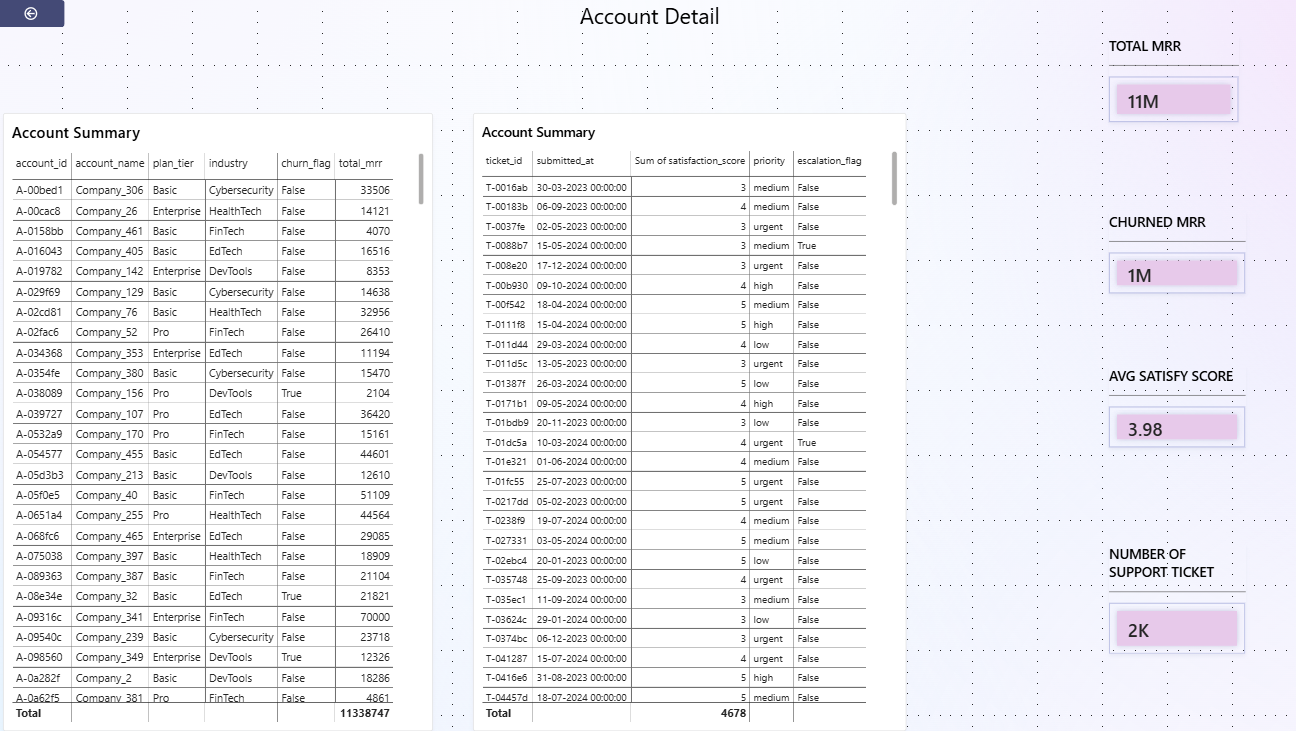

Layout of this report page (visuals, bound fields, positions):
{"tool":"powerbi","page":{"name":"Page 6","canvas":[1920,1080],"ordinal":5},"visuals":[{"type":"textbox","box":[9.5,0,1910.5,53.6],"z":0},{"type":"actionButton","box":[0,0,100,40],"z":1000},{"type":"tableEx","title":"Account Summary","fields":{"Values":["accounts.account_id","accounts.account_name","accounts.plan_tier","accounts.industry","accounts.churn_flag","_Measures.total_mrr"]},"box":[8.3,166.7,635,913.3],"z":2000},{"type":"tableEx","title":"Account Summary","fields":{"Values":["support_tickets.ticket_id","support_tickets.submitted_at","Sum(support_tickets.satisfaction_score)","support_tickets.priority","support_tickets.escalation_flag"]},"box":[703.3,166.7,640,913.3],"z":3000},{"type":"cardVisual","title":"TOTAL MRR","fields":{"Data":["_Measures.total_mrr"]},"box":[1641.7,53.3,191.7,126.7],"z":4000},{"type":"cardVisual","title":"CHURNED MRR","fields":{"Data":["_Measures.Churned MRR"]},"box":[1641.7,313.3,201.8,119.8],"z":5000},{"type":"cardVisual","title":"AVG SATISFY SCORE","fields":{"Data":["_Measures.Avg Satisfaction Score"]},"box":[1641.7,540,201.8,119.8],"z":6000},{"type":"cardVisual","title":"NUMBER OF SUPPORT TICKET","fields":{"Data":["_Measures.NO_SUPPORT_TICKET"]},"box":[1641.7,803.3,201.7,161.7],"z":7000}]}

Visuals, with their boxes in screenshot pixels (x1, y1, x2, y2), scaled from the page's 1920x1080 canvas onto the 1296x731 screenshot:
textbox: [6, 0, 1295, 36]
actionButton: [0, 0, 68, 27]
"Account Summary" tableEx: [6, 113, 434, 730]
"Account Summary" tableEx: [475, 113, 907, 730]
"TOTAL MRR" cardVisual: [1108, 36, 1238, 122]
"CHURNED MRR" cardVisual: [1108, 212, 1244, 293]
"AVG SATISFY SCORE" cardVisual: [1108, 366, 1244, 447]
"NUMBER OF SUPPORT TICKET" cardVisual: [1108, 544, 1244, 653]
